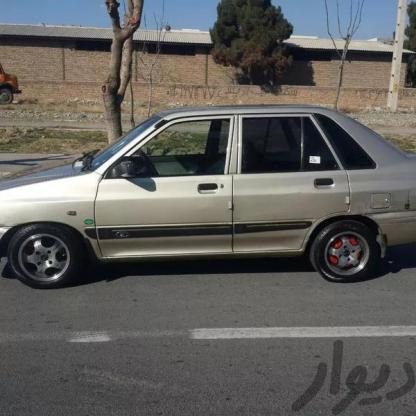Car: (0, 104, 416, 286)
Truck: (0, 47, 49, 103)
